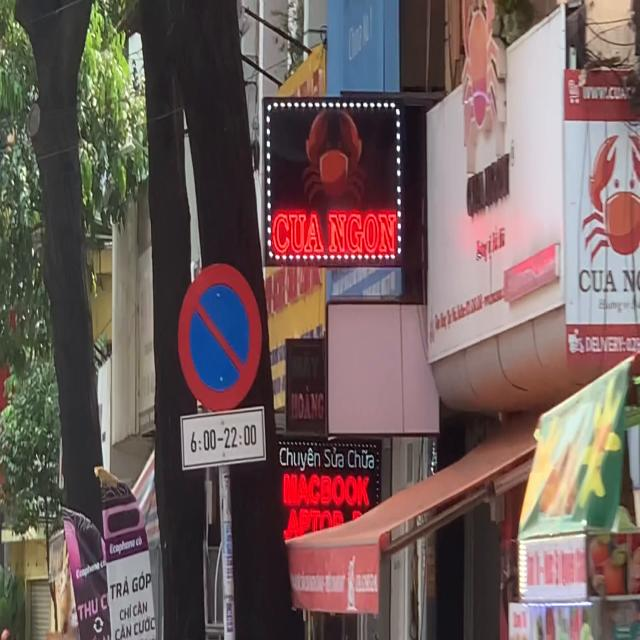Cam do: (178, 264, 262, 412)
